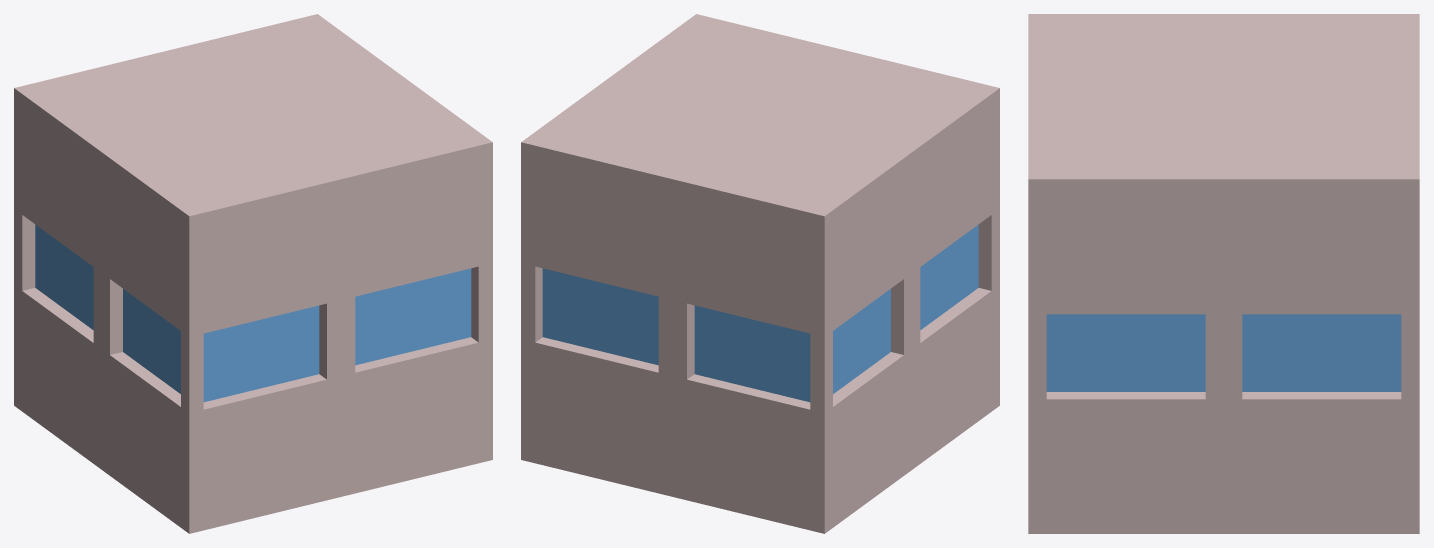
Rendered from building_1x1_2_f.glb.
3 views of the same model, side by side, from view 1: azimuth 30°, elevation 25°; view 2: azimuth 150°, elevation 25°; view 3: azimuth 270°, elevation 25° (orthographic). The views are drawn at different scales.
Parts seen in each view (by area): view 1: Cube.001; view 2: Cube.001; view 3: Cube.001.
Part boxes in pixels (x1,y1,x2,y2): Cube.001: (14,14,492,533); Cube.001: (521,14,999,533); Cube.001: (1028,14,1419,533).
Size of the model in its own units: 1.6 by 1.6 by 1.6.
